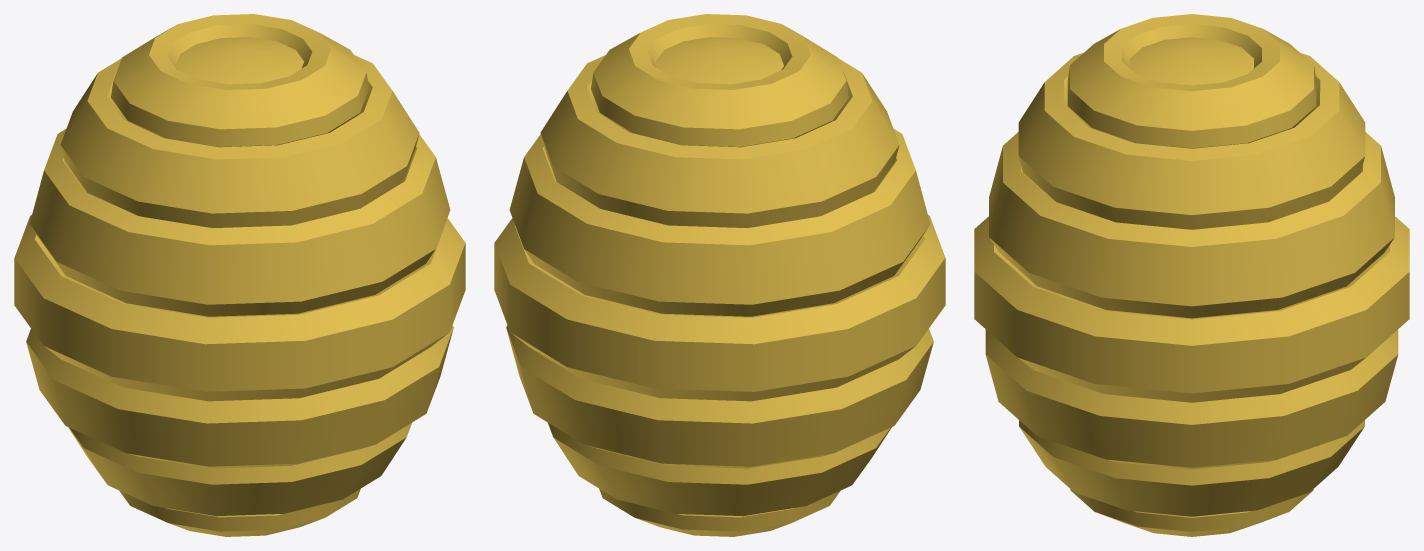
The model's file is beehive.fbx.
3 renders of one model, left to right at view 1: azimuth 30°, elevation 25°; view 2: azimuth 150°, elevation 25°; view 3: azimuth 270°, elevation 25°, orthographic.
Parts seen in each view (by area): view 1: pSphere1; view 2: pSphere1; view 3: pSphere1.
Part boxes in pixels (x1,y1,x2,y2): pSphere1: (14, 14, 465, 536); pSphere1: (494, 14, 945, 536); pSphere1: (974, 14, 1409, 536).
Size of the model in its own units: 1.82 by 2 by 1.75.
